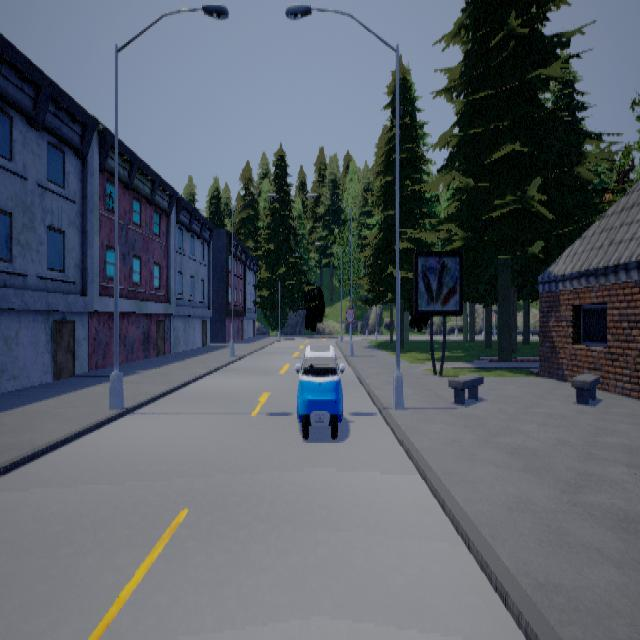traffic_sign: (345, 306, 354, 322)
vehicle: (294, 338, 347, 438)
